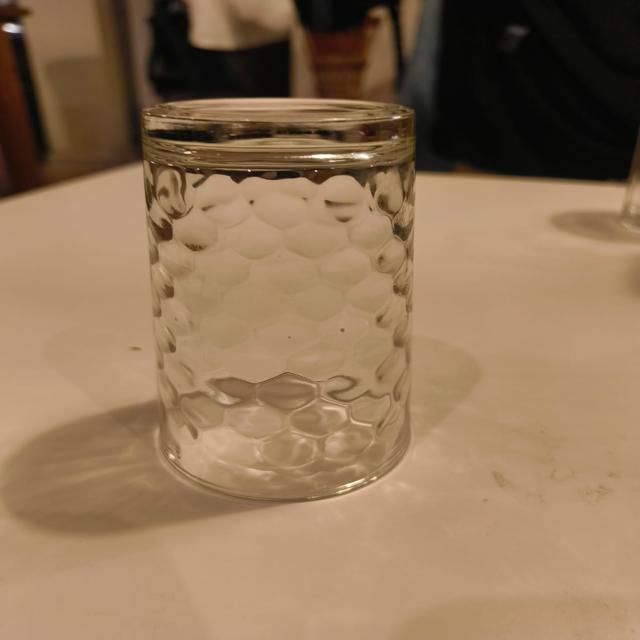ok g2: (142, 96, 416, 506)
